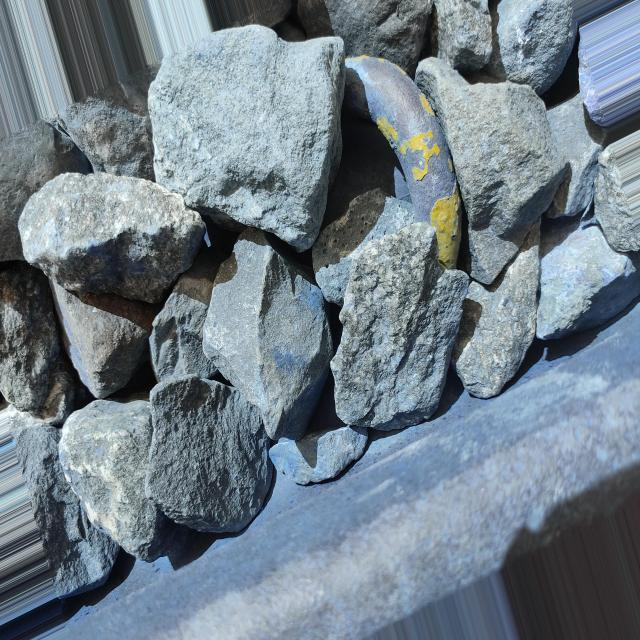Good Fasteners: (344, 55, 461, 269)
